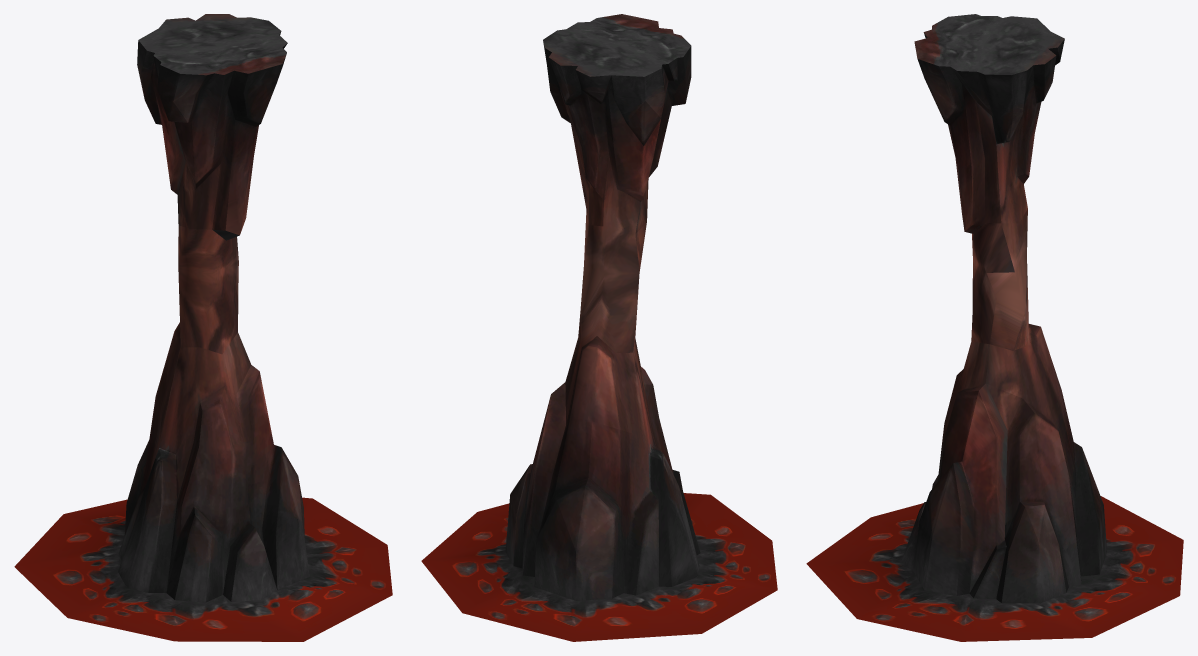
Rendered from lava_column_02.fbx.
The picture shows the model from 3 angles, left to right: view 1: azimuth 30°, elevation 25°; view 2: azimuth 150°, elevation 25°; view 3: azimuth 270°, elevation 25°; orthographic projection. The views are drawn at different scales.
Visible parts, largest first — view 1: lava_column_02-0; view 2: lava_column_02-0; view 3: lava_column_02-0.
Boxes of the visible parts, box(x1,y1,x2,y2) form: lava_column_02-0: box(14, 14, 392, 641); lava_column_02-0: box(421, 14, 777, 641); lava_column_02-0: box(806, 14, 1183, 641).
Size of the model in its own units: 10.28 by 16.47 by 10.8.
